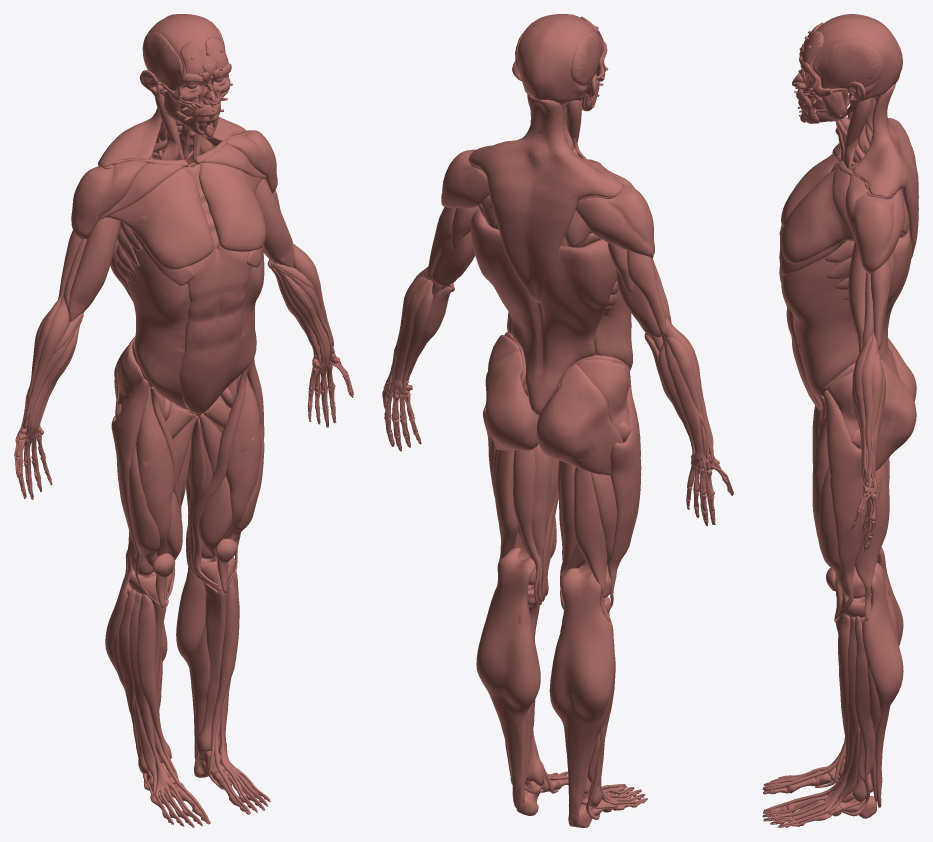
The model's file is human-muscles.glb.
3 views of the same model, side by side, from view 1: azimuth 30°, elevation 25°; view 2: azimuth 150°, elevation 25°; view 3: azimuth 270°, elevation 25° (orthographic). The views are drawn at different scales.
Visible parts, largest first — view 1: body__muscular_study; view 2: body__muscular_study; view 3: body__muscular_study.
Boxes of the visible parts, <box> form: body__muscular_study: <box>14,14,353,827</box>; body__muscular_study: <box>382,14,733,827</box>; body__muscular_study: <box>762,14,918,827</box>.
Size of the model in its own units: 7.29 by 15.89 by 2.87.
